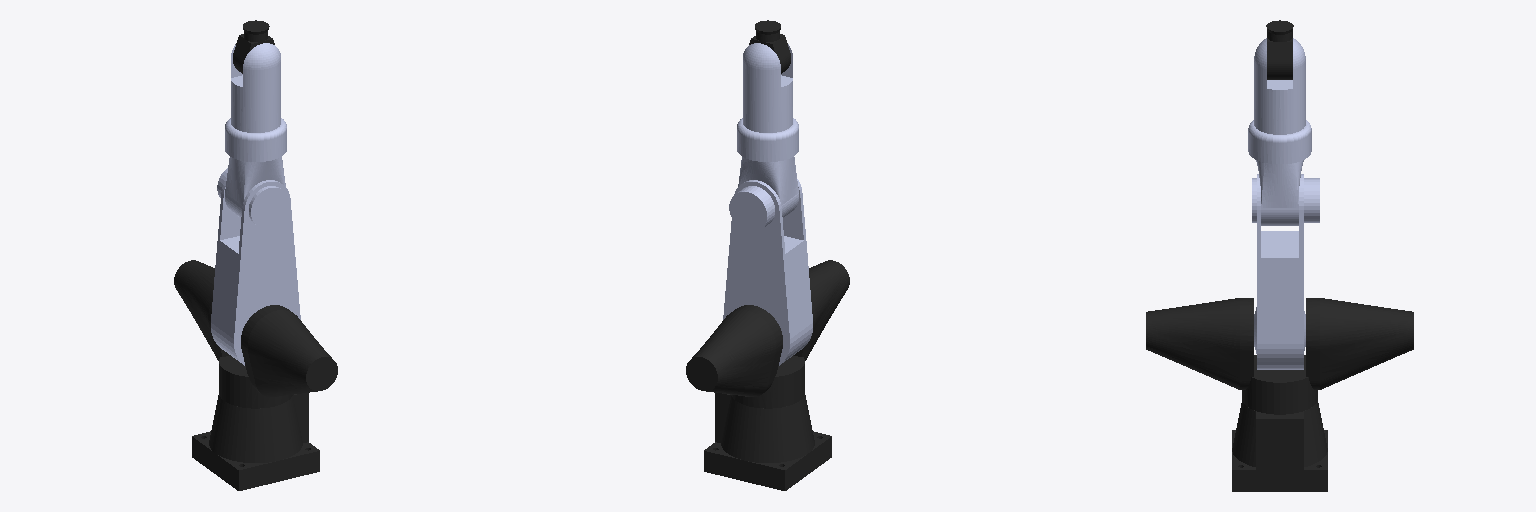
robot.urdf — CRS_A465:
<?xml version="1.0" encoding="utf-8"?>
<!-- This URDF was automatically created by SolidWorks to URDF Exporter! Originally created by [author] ([email redacted]) 
     Commit Version: 1.6.0-4-g7f85cfe  Build Version: 1.6.7995.38578
     For more information, please see http://wiki.ros.org/sw_urdf_exporter -->
<robot
  name="CRS_A465">
  <link
    name="eslabon_base">
    <inertial>
      <origin
        xyz="0.0033005 -1.0658E-10 0.075392"
        rpy="0 0 0" />
      <mass
        value="5.3549" />
      <inertia
        ixx="0.026465"
        ixy="-5.7942E-11"
        ixz="-0.00085077"
        iyy="0.027827"
        iyz="1.2428E-10"
        izz="0.028818" />
    </inertial>
    <visual>
      <origin
        xyz="0 0 0"
        rpy="0 0 0" />
      <geometry>
        <mesh
          filename="package://CRS_A465/meshes/eslabon_base.STL" />
      </geometry>
      <material
        name="">
        <color
          rgba="0.2 0.2 0.2 1" />
      </material>
    </visual>
    <collision>
      <origin
        xyz="0 0 0"
        rpy="0 0 0" />
      <geometry>
        <mesh
          filename="package://CRS_A465/meshes/eslabon_base.STL" />
      </geometry>
    </collision>
  </link>
  <link
    name="eslabon_1">
    <inertial>
      <origin
        xyz="-3.6863E-08 5.1363E-08 0.29206"
        rpy="0 0 0" />
      <mass
        value="7.6604" />
      <inertia
        ixx="0.17917"
        ixy="-1.131E-07"
        ixz="-7.5108E-08"
        iyy="0.033062"
        iyz="-1.514E-08"
        izz="0.16191" />
    </inertial>
    <visual>
      <origin
        xyz="0 0 0"
        rpy="0 0 0" />
      <geometry>
        <mesh
          filename="package://CRS_A465/meshes/eslabon_1.STL" />
      </geometry>
      <material
        name="">
        <color
          rgba="0.2 0.2 0.2 1" />
      </material>
    </visual>
    <collision>
      <origin
        xyz="0 0 0"
        rpy="0 0 0" />
      <geometry>
        <mesh
          filename="package://CRS_A465/meshes/eslabon_1.STL" />
      </geometry>
    </collision>
  </link>
  <joint
    name="junta_0_1"
    type="revolute">
    <origin
      xyz="0 0 0"
      rpy="0 0 0" />
    <parent
      link="eslabon_base" />
    <child
      link="eslabon_1" />
    <axis
      xyz="0 0 1" />
    <limit
      lower="-3.0543"
      upper="3.0543"
      effort="39.5"
      velocity="3.14" />
    <calibration
      rising="3.0543" />
  </joint>
  <link
    name="eslabon_2">
    <inertial>
      <origin
        xyz="0 0.0026097 0.092888"
        rpy="0 0 0" />
      <mass
        value="4.9089" />
      <inertia
        ixx="0.062922"
        ixy="2.989E-19"
        ixz="1.3863E-18"
        iyy="0.065705"
        iyz="-0.0027173"
        izz="0.014194" />
    </inertial>
    <visual>
      <origin
        xyz="0 0 0"
        rpy="0 0 0" />
      <geometry>
        <mesh
          filename="package://CRS_A465/meshes/eslabon_2.STL" />
      </geometry>
      <material
        name="">
        <color
          rgba="0.79216 0.81961 0.93333 1" />
      </material>
    </visual>
    <collision>
      <origin
        xyz="0 0 0"
        rpy="0 0 0" />
      <geometry>
        <mesh
          filename="package://CRS_A465/meshes/eslabon_2.STL" />
      </geometry>
    </collision>
  </link>
  <joint
    name="junta_1_2"
    type="revolute">
    <origin
      xyz="0 8E-05 0.33"
      rpy="0 0 0" />
    <parent
      link="eslabon_1" />
    <child
      link="eslabon_2" />
    <axis
      xyz="0 1 0" />
    <limit
      lower="-1.5708"
      upper="1.5708"
      effort="66.08"
      velocity="3.14" />
    <calibration
      rising="0.17453" />
  </joint>
  <link
    name="eslabon_3">
    <inertial>
      <origin
        xyz="6.0536E-08 -2.6493E-08 0.0085436"
        rpy="0 0 0" />
      <mass
        value="0.84552" />
      <inertia
        ixx="0.0011491"
        ixy="1.4482E-07"
        ixz="-9.5319E-10"
        iyy="0.0013629"
        iyz="4.2164E-10"
        izz="0.0011924" />
    </inertial>
    <visual>
      <origin
        xyz="0 0 0"
        rpy="0 0 0" />
      <geometry>
        <mesh
          filename="package://CRS_A465/meshes/eslabon_3.STL" />
      </geometry>
      <material
        name="">
        <color
          rgba="0.79216 0.81961 0.93333 1" />
      </material>
    </visual>
    <collision>
      <origin
        xyz="0 0 0"
        rpy="0 0 0" />
      <geometry>
        <mesh
          filename="package://CRS_A465/meshes/eslabon_3.STL" />
      </geometry>
    </collision>
  </link>
  <joint
    name="junta_2_3"
    type="revolute">
    <origin
      xyz="0 -0.0001 0.305"
      rpy="0 0 0" />
    <parent
      link="eslabon_2" />
    <child
      link="eslabon_3" />
    <axis
      xyz="0 -1 0" />
    <limit
      lower="-1.9199"
      upper="1.9199"
      effort="39.5"
      velocity="3.14" />
    <calibration
      rising="-1.0472" />
  </joint>
  <link
    name="eslabon_4">
    <inertial>
      <origin
        xyz="4.1633E-17 0 0.093313"
        rpy="0 0 0" />
      <mass
        value="2.1712" />
      <inertia
        ixx="0.011152"
        ixy="4.346E-12"
        ixz="-7.4605E-19"
        iyy="0.010864"
        iyz="-1.614E-18"
        izz="0.0040383" />
    </inertial>
    <visual>
      <origin
        xyz="0 0 0"
        rpy="0 0 0" />
      <geometry>
        <mesh
          filename="package://CRS_A465/meshes/eslabon_4.STL" />
      </geometry>
      <material
        name="">
        <color
          rgba="0.79216 0.81961 0.93333 1" />
      </material>
    </visual>
    <collision>
      <origin
        xyz="0 0 0"
        rpy="0 0 0" />
      <geometry>
        <mesh
          filename="package://CRS_A465/meshes/eslabon_4.STL" />
      </geometry>
    </collision>
  </link>
  <joint
    name="junta_3_4"
    type="revolute">
    <origin
      xyz="0 0 0.116"
      rpy="0 0 0" />
    <parent
      link="eslabon_3" />
    <child
      link="eslabon_4" />
    <axis
      xyz="0 0 1" />
    <limit
      lower="-3.1416"
      upper="3.1416"
      effort="6.89"
      velocity="2.99" />
    <calibration
      rising="3.14" />
  </joint>
  <link
    name="eslabon_5">
    <inertial>
      <origin
        xyz="0 -5.5511E-17 0.0094718"
        rpy="0 0 0" />
      <mass
        value="0.37918" />
      <inertia
        ixx="0.00037262"
        ixy="-8.6135E-21"
        ixz="-1.1175E-20"
        iyy="0.00044766"
        iyz="-1.1906E-20"
        izz="0.00025382" />
    </inertial>
    <visual>
      <origin
        xyz="0 0 0"
        rpy="0 0 0" />
      <geometry>
        <mesh
          filename="package://CRS_A465/meshes/eslabon_5.STL" />
      </geometry>
      <material
        name="">
        <color
          rgba="0.2 0.2 0.2 1" />
      </material>
    </visual>
    <collision>
      <origin
        xyz="0 0 0"
        rpy="0 0 0" />
      <geometry>
        <mesh
          filename="package://CRS_A465/meshes/eslabon_5.STL" />
      </geometry>
    </collision>
  </link>
  <joint
    name="junta_4_5"
    type="revolute">
    <origin
      xyz="0 0 0.214"
      rpy="0 0 0" />
    <parent
      link="eslabon_4" />
    <child
      link="eslabon_5" />
    <axis
      xyz="0 -1 0" />
    <limit
      lower="-1.8326"
      upper="1.8326"
      effort="6.82"
      velocity="3.02" />
    <calibration
      rising="0.43633" />
  </joint>
  <link
    name="eslabon_6">
    <inertial>
      <origin
        xyz="0 -1.1102E-16 0.007846"
        rpy="0 0 0" />
      <mass
        value="0.035974" />
      <inertia
        ixx="7.4902E-06"
        ixy="1.72E-36"
        ixz="8.0534E-22"
        iyy="7.4902E-06"
        iyz="4.3702E-21"
        izz="1.356E-05" />
    </inertial>
    <visual>
      <origin
        xyz="0 0 0"
        rpy="0 0 0" />
      <geometry>
        <mesh
          filename="package://CRS_A465/meshes/eslabon_6.STL" />
      </geometry>
      <material
        name="">
        <color
          rgba="0.2 0.2 0.2 1" />
      </material>
    </visual>
    <collision>
      <origin
        xyz="0 0 0"
        rpy="0 0 0" />
      <geometry>
        <mesh
          filename="package://CRS_A465/meshes/eslabon_6.STL" />
      </geometry>
    </collision>
  </link>
  <joint
    name="junta_5_6"
    type="revolute">
    <origin
      xyz="0 0 0.0635"
      rpy="0 0 0" />
    <parent
      link="eslabon_5" />
    <child
      link="eslabon_6" />
    <axis
      xyz="0 0 1" />
    <limit
      lower="-3.1416"
      upper="3.1416"
      effort="2.5"
      velocity="2.99" />
    <calibration
      rising="3.14" />
  </joint>
</robot>

--- Facts derived from the render (not from the file) ---
The picture shows the robot from 3 angles, left to right: view 1: azimuth 30°, elevation 25°; view 2: azimuth 150°, elevation 25°; view 3: azimuth 270°, elevation 25°; orthographic projection.
Model CRS_A465 with 7 links and 6 joints (6 revolute), rooted at eslabon_base, posed every joint at zero.
Links seen in each view (by area): view 1: eslabon_2, eslabon_1, eslabon_base, eslabon_4, eslabon_3, eslabon_5; view 2: eslabon_2, eslabon_1, eslabon_base, eslabon_4, eslabon_3, eslabon_5; view 3: eslabon_1, eslabon_2, eslabon_base, eslabon_4, eslabon_3, eslabon_5.
Boxes of the visible links, x1=… form: eslabon_2: x1=211, y1=168, x2=300, y2=365; eslabon_1: x1=174, y1=260, x2=337, y2=408; eslabon_base: x1=192, y1=393, x2=319, y2=490; eslabon_4: x1=225, y1=43, x2=286, y2=161; eslabon_3: x1=225, y1=157, x2=285, y2=217; eslabon_5: x1=233, y1=34, x2=274, y2=73; eslabon_2: x1=723, y1=179, x2=812, y2=365; eslabon_1: x1=686, y1=260, x2=849, y2=408; eslabon_base: x1=704, y1=393, x2=831, y2=490; eslabon_4: x1=737, y1=43, x2=798, y2=161; eslabon_3: x1=738, y1=157, x2=798, y2=217; eslabon_5: x1=749, y1=34, x2=790, y2=73; eslabon_1: x1=1146, y1=298, x2=1413, y2=414; eslabon_2: x1=1252, y1=174, x2=1319, y2=369; eslabon_base: x1=1232, y1=400, x2=1327, y2=491; eslabon_4: x1=1248, y1=38, x2=1311, y2=163; eslabon_3: x1=1256, y1=160, x2=1303, y2=225; eslabon_5: x1=1267, y1=33, x2=1292, y2=79.
Bounding box of the posed robot: 0.2032 × 0.57 × 1.04 m (x, y, z).
Meshes: 7 distinct files referenced, 7 mesh visuals loaded (7 binary STL).